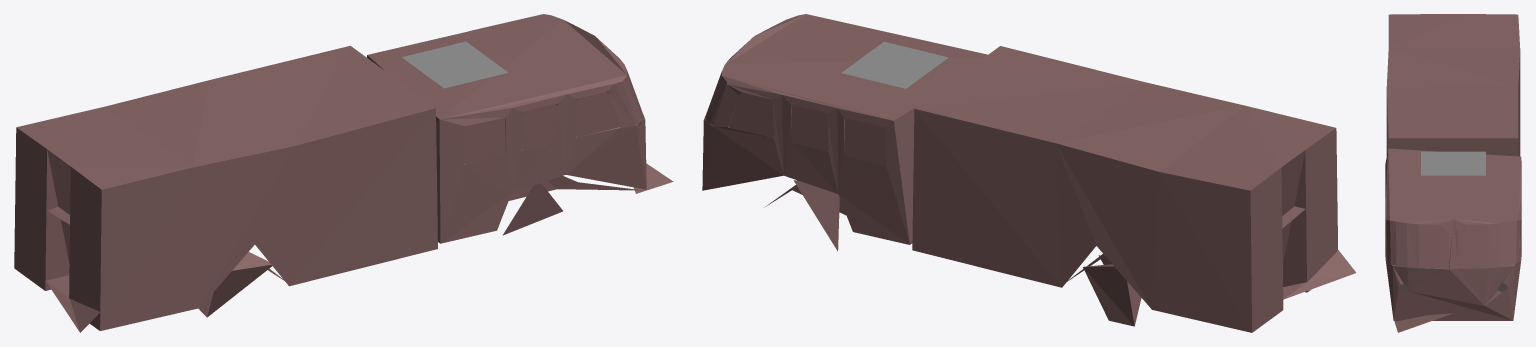
The model's file is civ-firetruck.lod2.glb.
3 views of the same model, side by side, from view 1: azimuth 30°, elevation 25°; view 2: azimuth 150°, elevation 25°; view 3: azimuth 270°, elevation 25° (orthographic). The views are drawn at different scales.
Visible parts, largest first — view 1: fire_truck_firetruck_0; view 2: fire_truck_firetruck_0; view 3: fire_truck_firetruck_0.
Boxes of the visible parts, box(x1,y1,x2,y2) form: fire_truck_firetruck_0: box(14, 14, 673, 332); fire_truck_firetruck_0: box(702, 14, 1356, 332); fire_truck_firetruck_0: box(1385, 14, 1521, 332).
Size of the model in its own units: 7.25 by 2.01 by 1.89.
